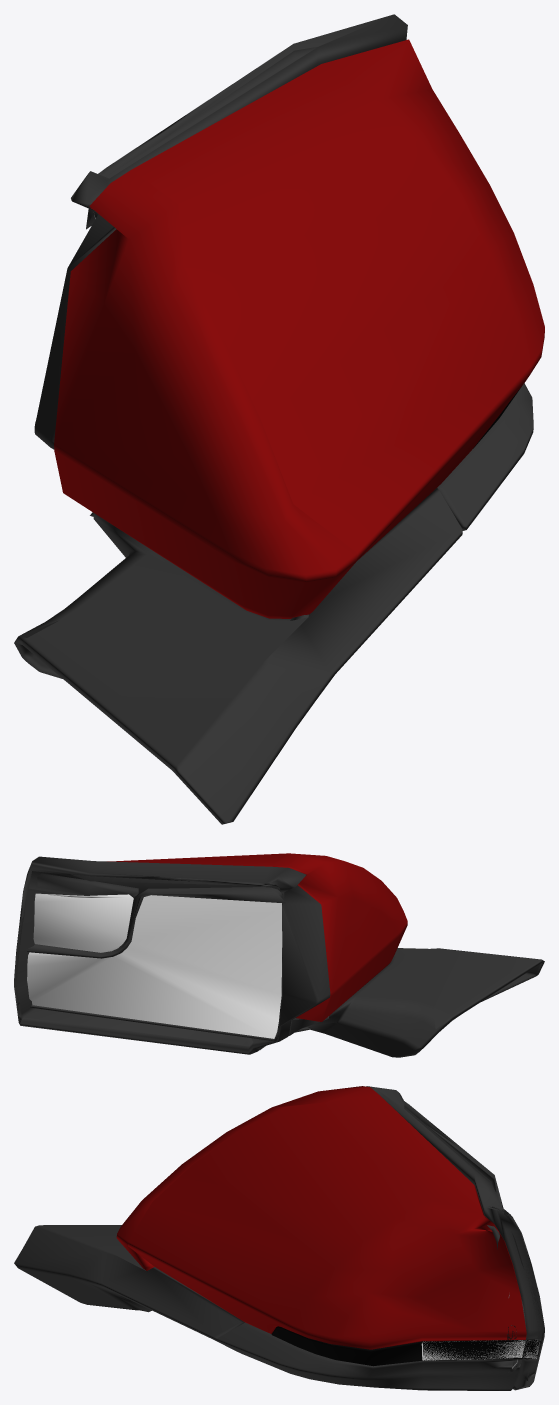
Rendered from mirror.fbx.
3 views of the same model, one above another, from view 1: azimuth 30°, elevation 25°; view 2: azimuth 150°, elevation 25°; view 3: azimuth 270°, elevation 25° (orthographic). The views are drawn at different scales.
Visible parts, largest first — view 1: Ford:MirrorL6_Mesh_026_M_Opaque_PlasticSmoothBlack_Max_013, Ford:MirrorBaseL6_Mesh_024_M_Opaque_PlasticSmoothBlack_Max_0, Ford:MirrorL6_Mesh_026_M_Opaque_PlasticSmoothBlack_Max_007; view 2: Ford:MirrorL6_Mesh_026_M_Opaque_PlasticSmoothBlack_Max_012, Ford:MirrorL6_Mesh_026_M_Opaque_PlasticSmoothBlack_Max_007, Ford:MirrorBaseL6_Mesh_024_M_Opaque_PlasticSmoothBlack_Max_0, Ford:MirrorL6_Mesh_026_M_Opaque_PlasticSmoothBlack_Max_013; view 3: Ford:MirrorL6_Mesh_026_M_Opaque_PlasticSmoothBlack_Max_013, Ford:MirrorL6_Mesh_026_M_Opaque_PlasticSmoothBlack_Max_007, Ford:MirrorBaseL6_Mesh_024_M_Opaque_PlasticSmoothBlack_Max_0, Ford:MirrorL6_Mesh_026_M_Opaque_PlasticSmoothBlack_Max_010, Ford:MirrorL6_Mesh_026_M_Opaque_PlasticSmoothBlack_Max_011.
Part boxes in pixels (x1,y1,x2,y2): Ford:MirrorL6_Mesh_026_M_Opaque_PlasticSmoothBlack_Max_013: (54,39,544,618); Ford:MirrorBaseL6_Mesh_024_M_Opaque_PlasticSmoothBlack_Max_0: (14,488,462,824); Ford:MirrorL6_Mesh_026_M_Opaque_PlasticSmoothBlack_Max_007: (34,14,533,530); Ford:MirrorL6_Mesh_026_M_Opaque_PlasticSmoothBlack_Max_012: (27,893,282,1038); Ford:MirrorL6_Mesh_026_M_Opaque_PlasticSmoothBlack_Max_007: (14,856,330,1054); Ford:MirrorBaseL6_Mesh_024_M_Opaque_PlasticSmoothBlack_Max_0: (295,948,544,1057); Ford:MirrorL6_Mesh_026_M_Opaque_PlasticSmoothBlack_Max_013: (107,853,407,1021); Ford:MirrorL6_Mesh_026_M_Opaque_PlasticSmoothBlack_Max_013: (116,1086,526,1349); Ford:MirrorL6_Mesh_026_M_Opaque_PlasticSmoothBlack_Max_007: (217,1086,544,1390); Ford:MirrorBaseL6_Mesh_024_M_Opaque_PlasticSmoothBlack_Max_0: (14,1225,244,1351); Ford:MirrorL6_Mesh_026_M_Opaque_PlasticSmoothBlack_Max_010: (271,1326,540,1366); Ford:MirrorL6_Mesh_026_M_Opaque_PlasticSmoothBlack_Max_011: (421,1339,540,1360).
Size of the model in its own units: 0.2265 by 0.1408 by 0.2705.
